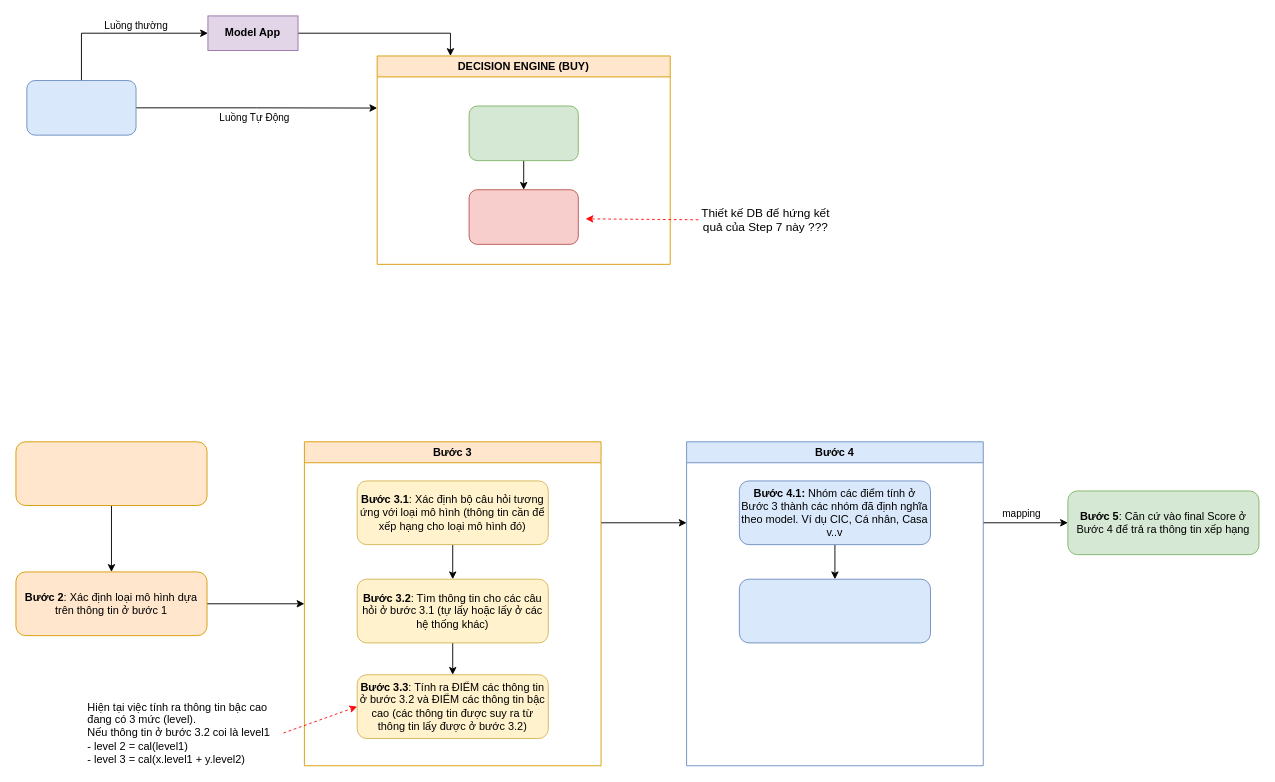
Some shapes in this 1275 by 782 pixel diagram are drawn without their labels. The centre of each missing label's shape, as x and y in pixels:
Bước 1 : Tiếp nhận các thông tin cơ bản đủ để nhận diện mô hình: (x=111, y=473)
Bước 4.2 : Tính Final Score dựa vào điểm ở bước 4.1: (x=834, y=610)
DIGILENDING: (x=81, y=107)
Process flow 1 - 6: (x=523, y=133)
Process XHTD (7): (x=523, y=216)
